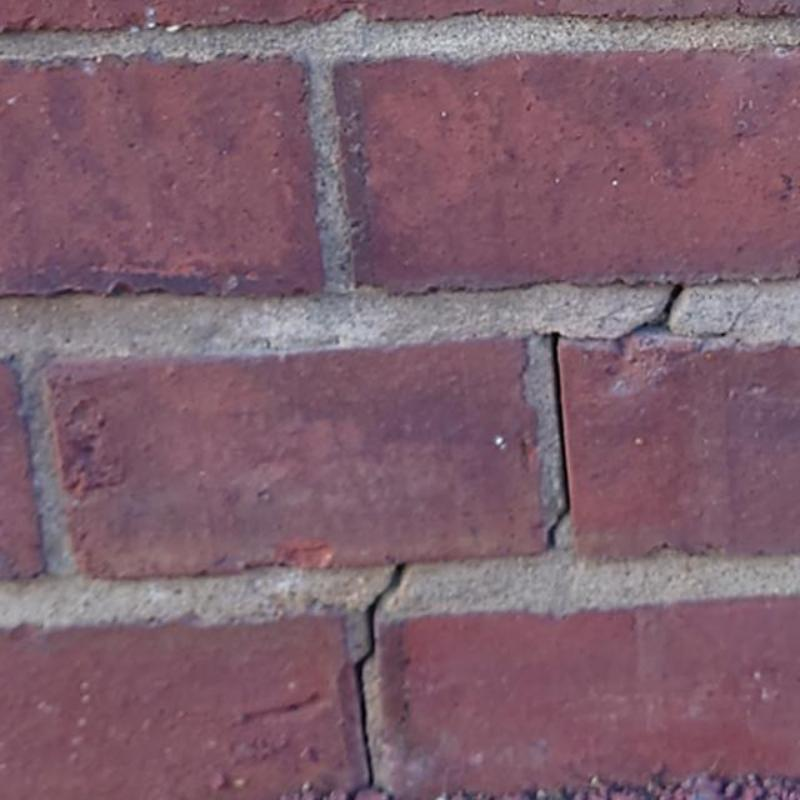pothole: (346, 561, 406, 799), (561, 284, 761, 342), (544, 331, 571, 545)
